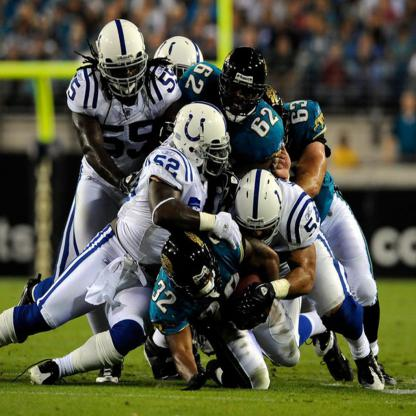face: (225, 77, 254, 111), (111, 60, 142, 90), (190, 269, 217, 298), (201, 141, 222, 174), (247, 225, 276, 247)
